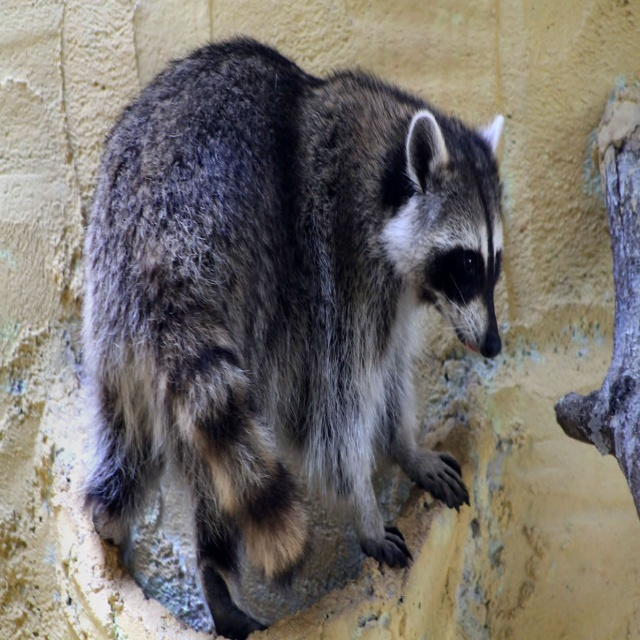Raccoon: (72, 29, 514, 640)
